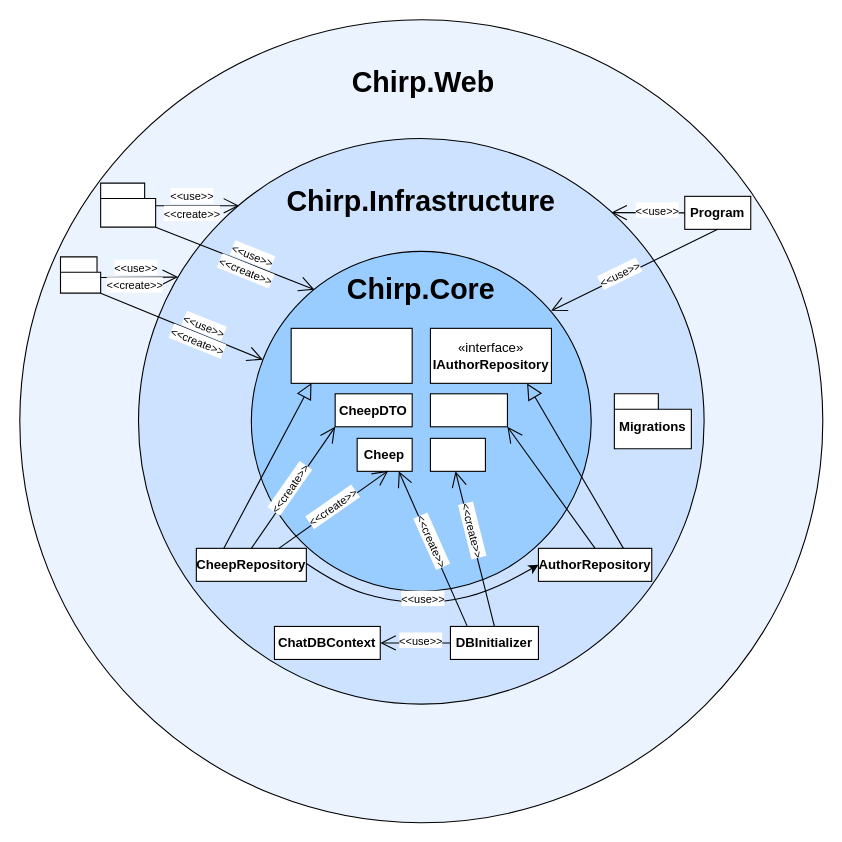
Image size: 842x842. Some labels were removed from this diagram. The centre of each missing label's shape, as x and y in pixels:
"Areas" goes at pixel 80 274.
"Author" goes at pixel 457 454.
"AuthorDTO" goes at pixel 468 410.
"Pages" goes at pixel 128 204.
"«interface» ICheepRepository" goes at pixel 351 355.
